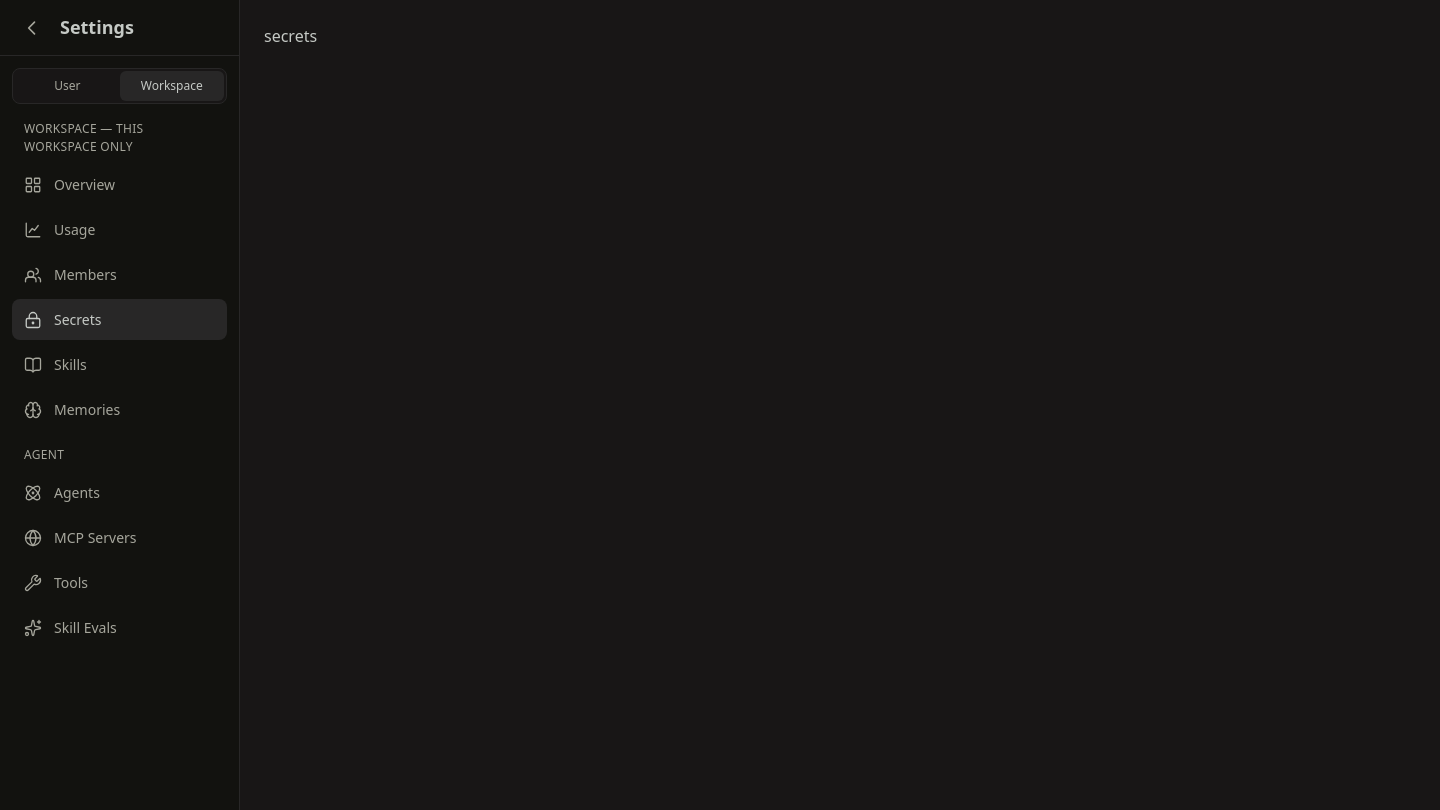
Test case: SettingsShell › restores the section from ?section= and strips the default on the way back
This screenshot has width=1440, height=810.
expect the text with test id "slot-section" reads "secrets": met, box x1=264 y1=25 x2=317 y2=47
expect the tab "Secrets" is shown: met, box x1=12 y1=299 x2=227 y2=340
Click the tab "Overview".
click(120, 184)  # box x1=12 y1=164 x2=227 y2=205
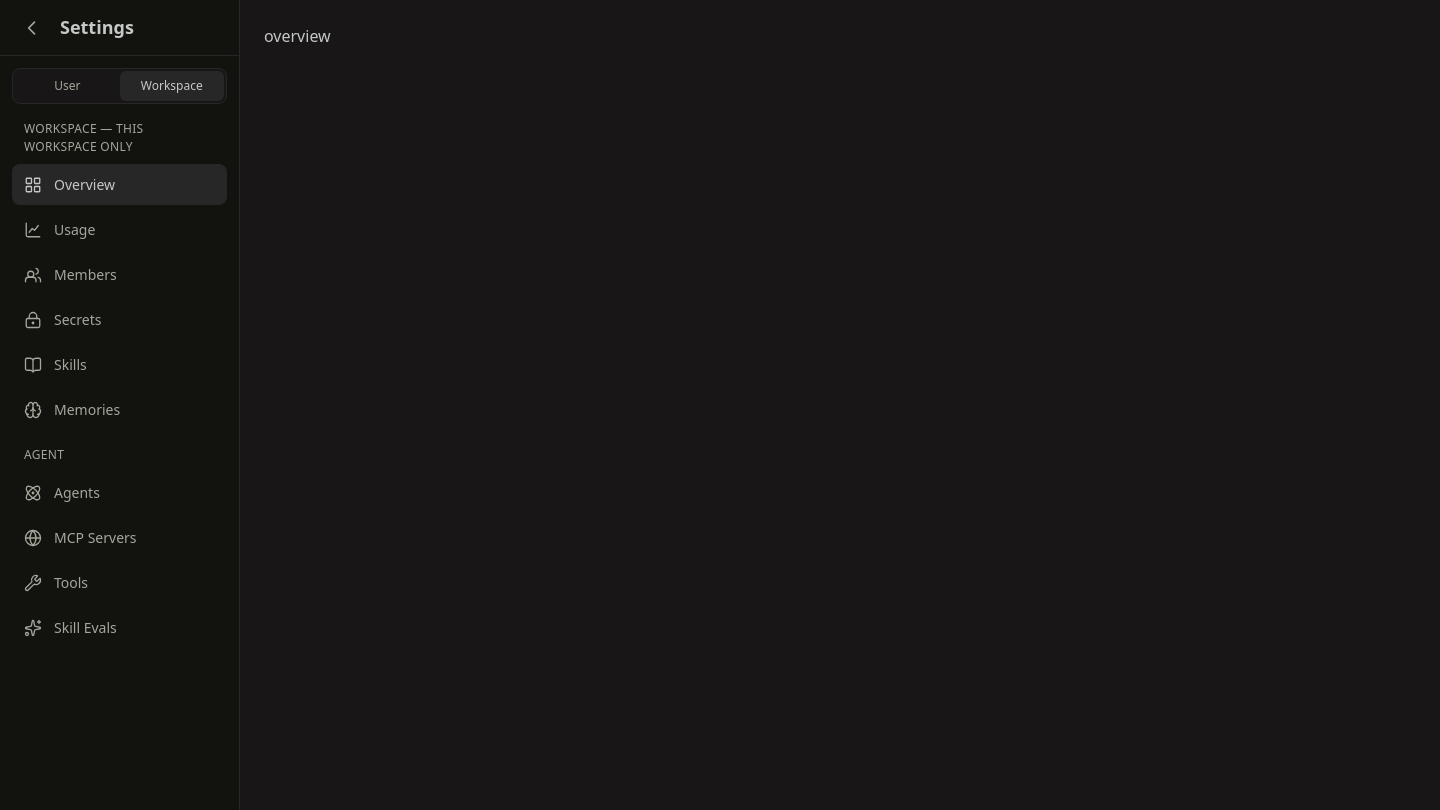
expect the text with test id "slot-section" reads "overview": met, box x1=264 y1=25 x2=331 y2=47
